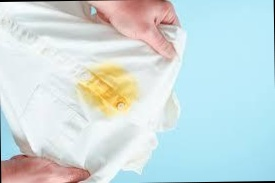mustard: (84, 72, 132, 111)
